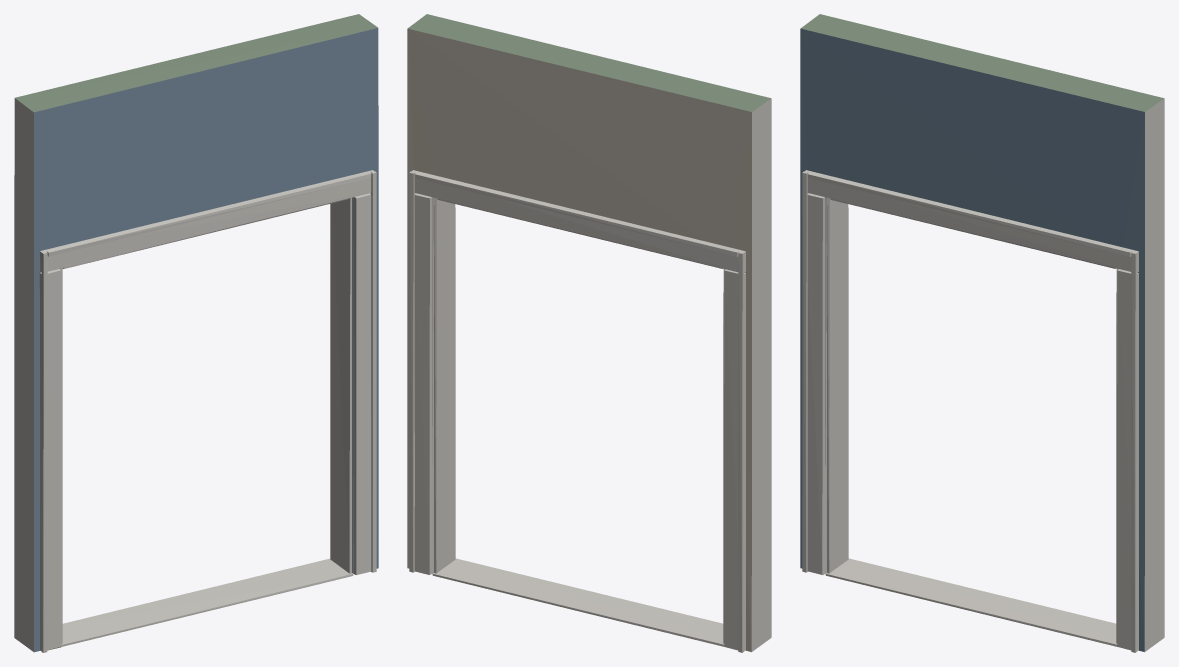
Rendered from SM_Kit_Wall_Door2_LOD2.glb.
3 renders of one model, left to right at view 1: azimuth 30°, elevation 25°; view 2: azimuth 150°, elevation 25°; view 3: azimuth 330°, elevation 25°, orthographic.
Visible parts, largest first — view 1: SM_Kit_Wall_Door2_LOD2; view 2: SM_Kit_Wall_Door2_LOD2; view 3: SM_Kit_Wall_Door2_LOD2.
Boxes of the visible parts, x1,y1,x2,y2 form: SM_Kit_Wall_Door2_LOD2: [14, 14, 378, 652]; SM_Kit_Wall_Door2_LOD2: [407, 14, 771, 652]; SM_Kit_Wall_Door2_LOD2: [800, 14, 1164, 652].
Bounding box in the file's own units: 2 × 3 × 0.2746.
